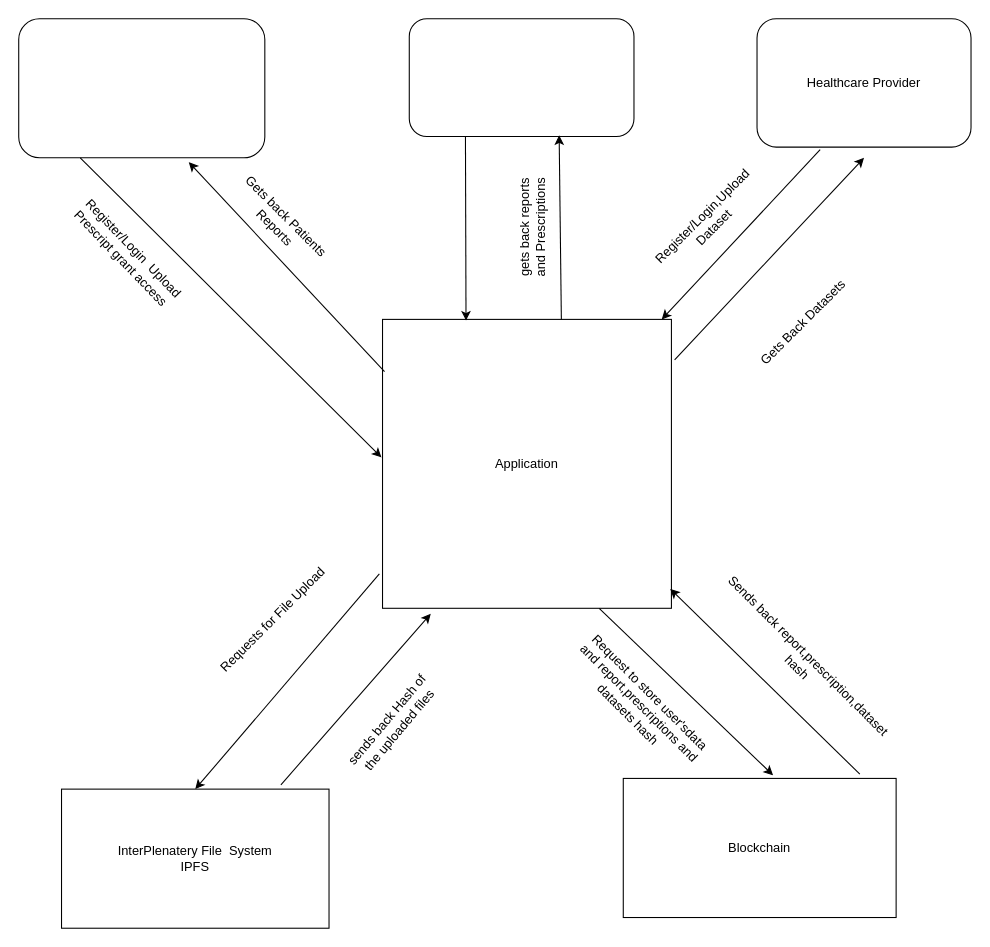
Some shapes in this 990 by 947 pixel diagram are drawn without their labels. Here are the shapes that lost their labels. From the top down, the centre of each, then its label:
At point (141, 88): "Doctor".
At point (521, 77): "Patient".
